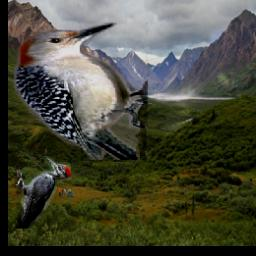Woodpecker: (14, 23, 148, 160), (16, 156, 72, 229)
